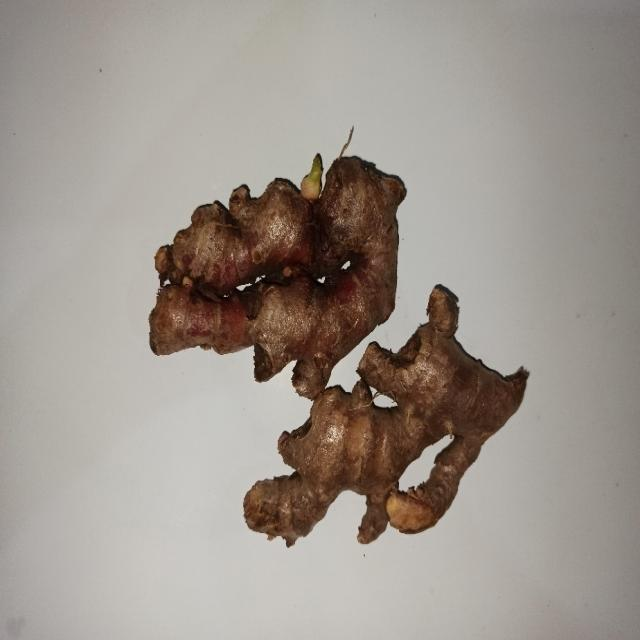ginger: (237, 350, 532, 552), (150, 168, 401, 382)
